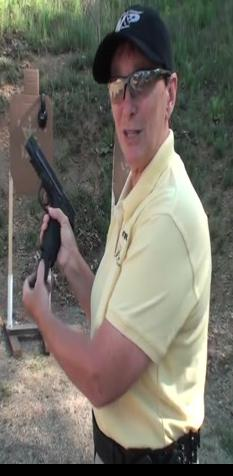pistol: (23, 132, 75, 268)
